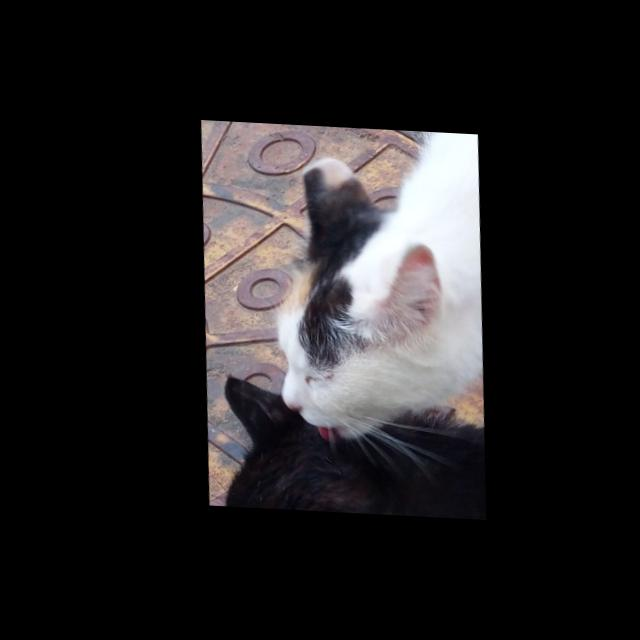animals: (253, 142, 454, 456)
